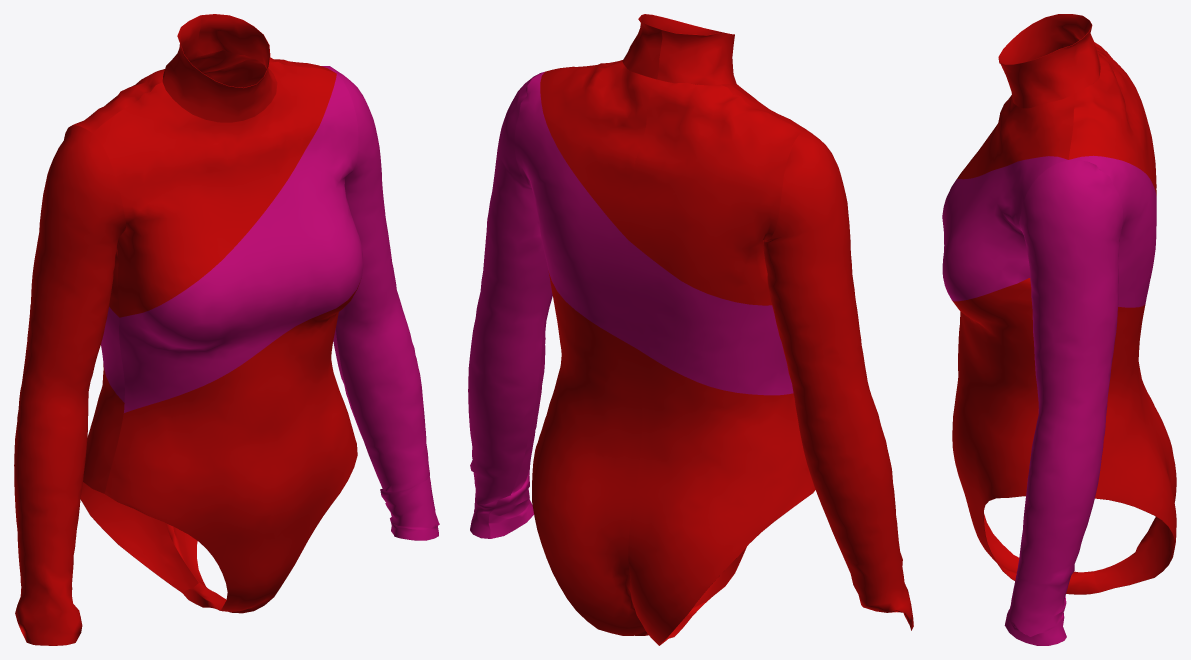
The picture shows the model from 3 angles, left to right: view 1: azimuth 30°, elevation 25°; view 2: azimuth 150°, elevation 25°; view 3: azimuth 270°, elevation 25°; orthographic projection. The views are drawn at different scales.
Visible parts, largest first — view 1: Pattern2D_713644, SLE, Pattern2D_713516, Pattern2D_530152, SLE_1, Pattern2D_408223, Pattern2D_569657, Pattern2D_550291, Pattern2D_563137, Pattern2D_569619, Pattern2D_556861; view 2: SLE, Pattern2D_569657, Pattern2D_563137, Pattern2D_556861, SLE_1, Pattern2D_569619, Pattern2D_556758, Pattern2D_550291, Pattern2D_408223, Pattern2D_713644, Pattern2D_530152; view 3: SLE_1, Pattern2D_713644, Pattern2D_556861, Pattern2D_713516, Pattern2D_408223, Pattern2D_556758, Pattern2D_530152, Pattern2D_550291, Pattern2D_563137, Pattern2D_569657.
Part boxes in pixels (box(x1,y1,x2,y2)): Pattern2D_713644: box(104, 283, 359, 613); SLE: box(14, 125, 126, 645); Pattern2D_713516: box(119, 74, 363, 412); Pattern2D_530152: box(93, 61, 336, 317); SLE_1: box(330, 66, 439, 540); Pattern2D_408223: box(162, 14, 277, 122); Pattern2D_569657: box(80, 364, 198, 592); Pattern2D_550291: box(189, 50, 335, 87); Pattern2D_563137: box(73, 59, 189, 316); Pattern2D_569619: box(101, 306, 124, 402); Pattern2D_556861: box(165, 523, 206, 587); SLE: box(763, 130, 913, 630); Pattern2D_569657: box(628, 349, 815, 645); Pattern2D_563137: box(628, 79, 801, 305); Pattern2D_556861: box(532, 271, 646, 635); SLE_1: box(468, 72, 552, 538); Pattern2D_569619: box(628, 240, 793, 395); Pattern2D_556758: box(514, 72, 637, 348); Pattern2D_550291: box(540, 61, 656, 239); Pattern2D_408223: box(622, 14, 736, 85); Pattern2D_713644: box(645, 547, 746, 638); Pattern2D_530152: box(560, 60, 809, 131); SLE_1: box(1004, 160, 1122, 645); Pattern2D_713644: box(952, 278, 1099, 594); Pattern2D_556861: box(1093, 304, 1176, 592); Pattern2D_713516: box(942, 156, 1067, 301); Pattern2D_408223: box(998, 14, 1100, 108); Pattern2D_556758: box(1069, 155, 1156, 307); Pattern2D_530152: box(957, 94, 1074, 179); Pattern2D_550291: box(1068, 68, 1156, 193); Pattern2D_563137: box(1094, 42, 1156, 195); Pattern2D_569657: box(1104, 362, 1176, 568).
Size of the model in its own units: 56.12 by 75.4 by 28.34.
